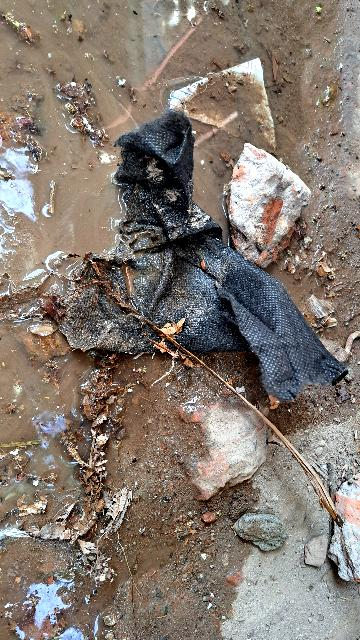mask: (34, 100, 359, 471)
